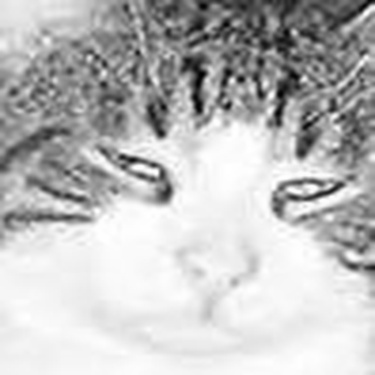cat: (3, 2, 370, 372)
